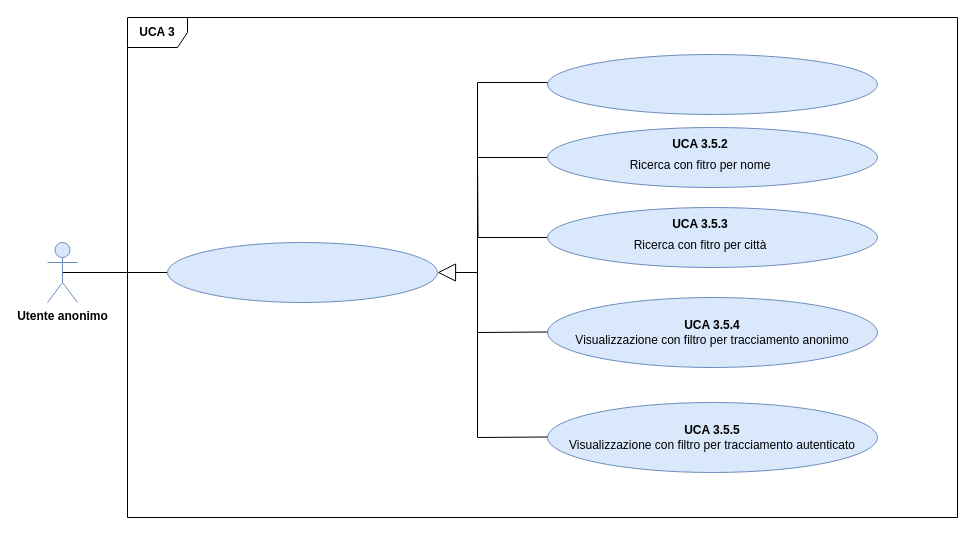
The diagram is 975 pixels wide and 535 high, and some of its shapes have lost their labels. The box of each missing label's shape, as (x1, y1, x2, y2) in pixels:
UCA 3.5 Ricerca personalizzata delle organizzazioni: (166, 242, 438, 302)
UCA 3.5.1 Ricerca con fitro per nazione: (546, 54, 878, 114)
